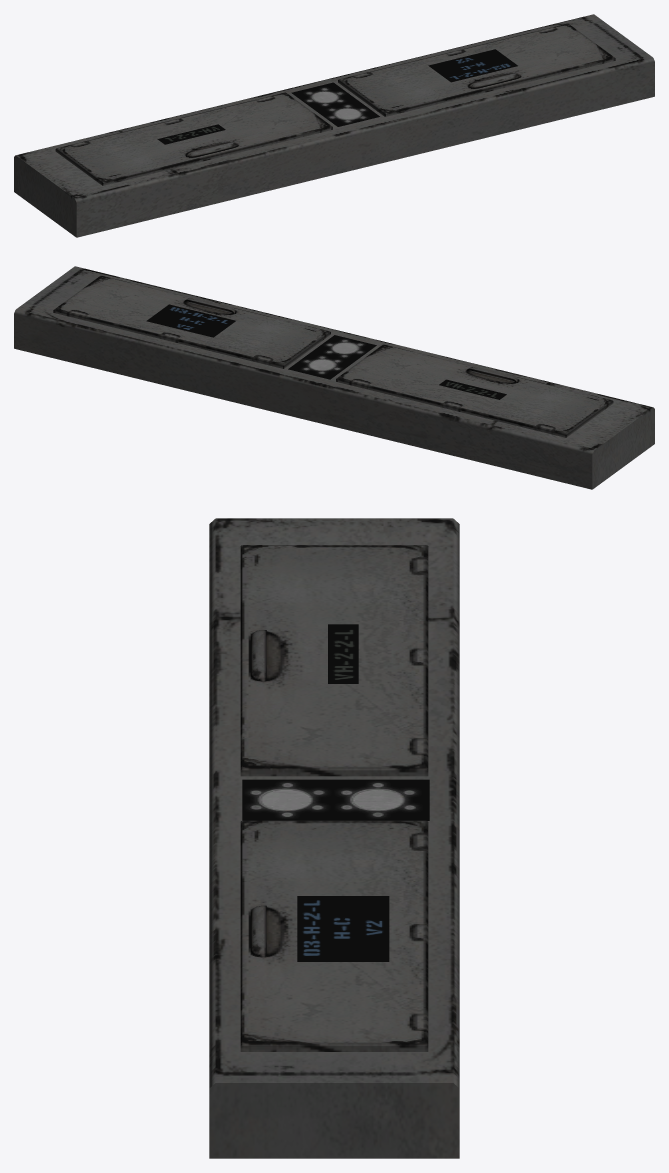
File: p6_blackout_panel_flooring_hatch_lod0.glb
3 renders of one model, top to bottom at view 1: azimuth 30°, elevation 25°; view 2: azimuth 150°, elevation 25°; view 3: azimuth 270°, elevation 25°, orthographic. The views are drawn at different scales.
Parts seen in each view (by area): view 1: surf0, surf2, surf1; view 2: surf0, surf2, surf1; view 3: surf0, surf2, surf1.
Boxes of the visible parts, <box> form: surf0: <box>14,14,654,237</box>; surf2: <box>157,49,517,144</box>; surf1: <box>291,82,379,126</box>; surf0: <box>14,266,654,489</box>; surf2: <box>146,304,506,399</box>; surf1: <box>288,335,376,379</box>; surf0: <box>209,518,459,1158</box>; surf2: <box>297,624,389,961</box>; surf1: <box>242,779,429,820</box>.
Bounding box in the file's own units: 128 × 9.31 × 24.
